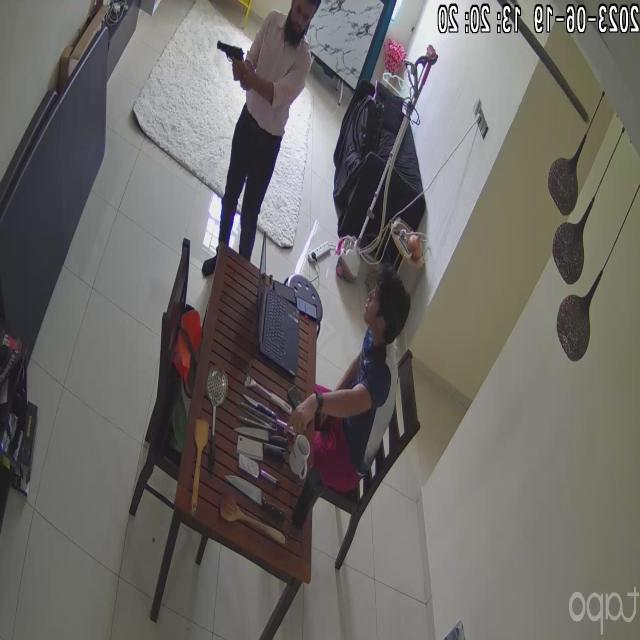Gun: (216, 40, 266, 79)
Knife: (224, 458, 288, 509)
